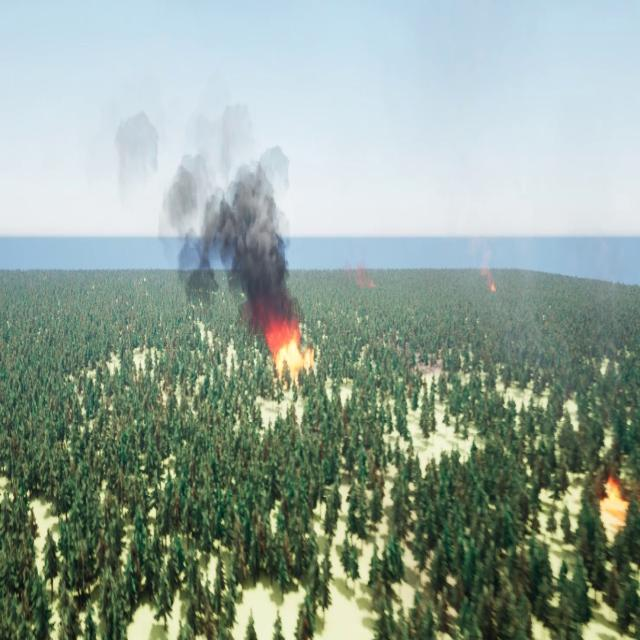fire: (266, 326, 320, 374), (601, 466, 635, 524)
smoke: (112, 106, 299, 320), (347, 253, 377, 286), (477, 250, 496, 286)
